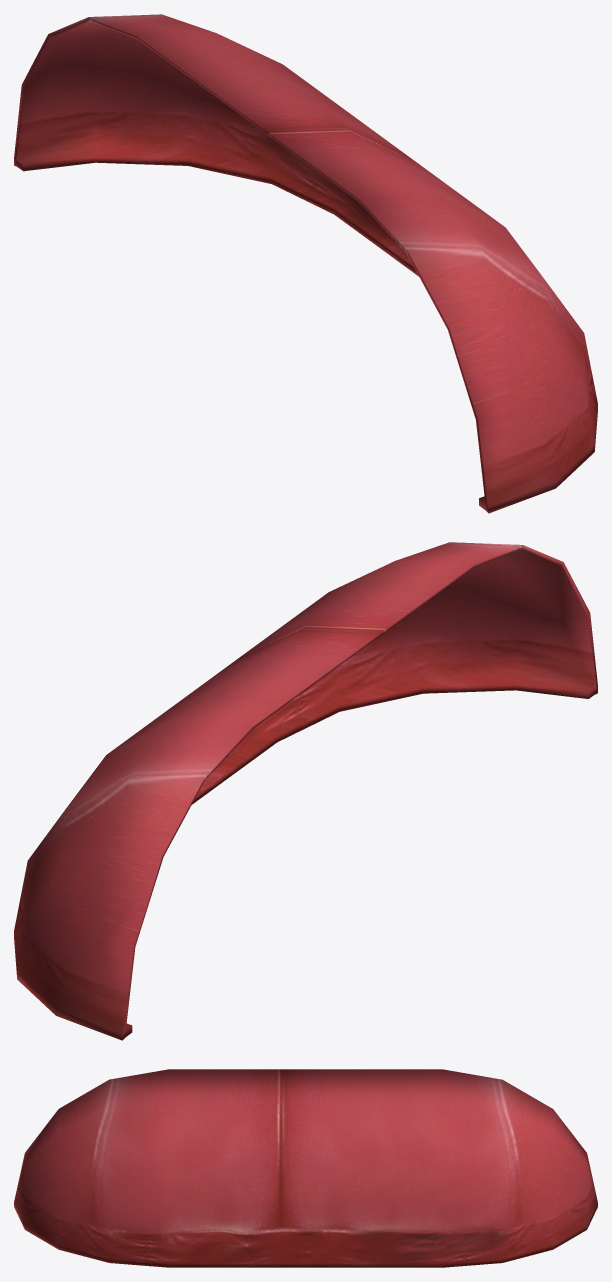
The model's file is awning_oblong.fbx.
3 renders of one model, top to bottom at view 1: azimuth 30°, elevation 25°; view 2: azimuth 150°, elevation 25°; view 3: azimuth 270°, elevation 25°, orthographic. The views are drawn at different scales.
Visible parts, largest first — view 1: Default0; view 2: Default0; view 3: Default0.
Part boxes in pixels (box(x1,y1,x2,y2)): Default0: box(14, 14, 597, 513); Default0: box(14, 542, 597, 1040); Default0: box(14, 1069, 597, 1267).
Bounding box in the file's own units: 2.14 × 2.22 × 8.58.
